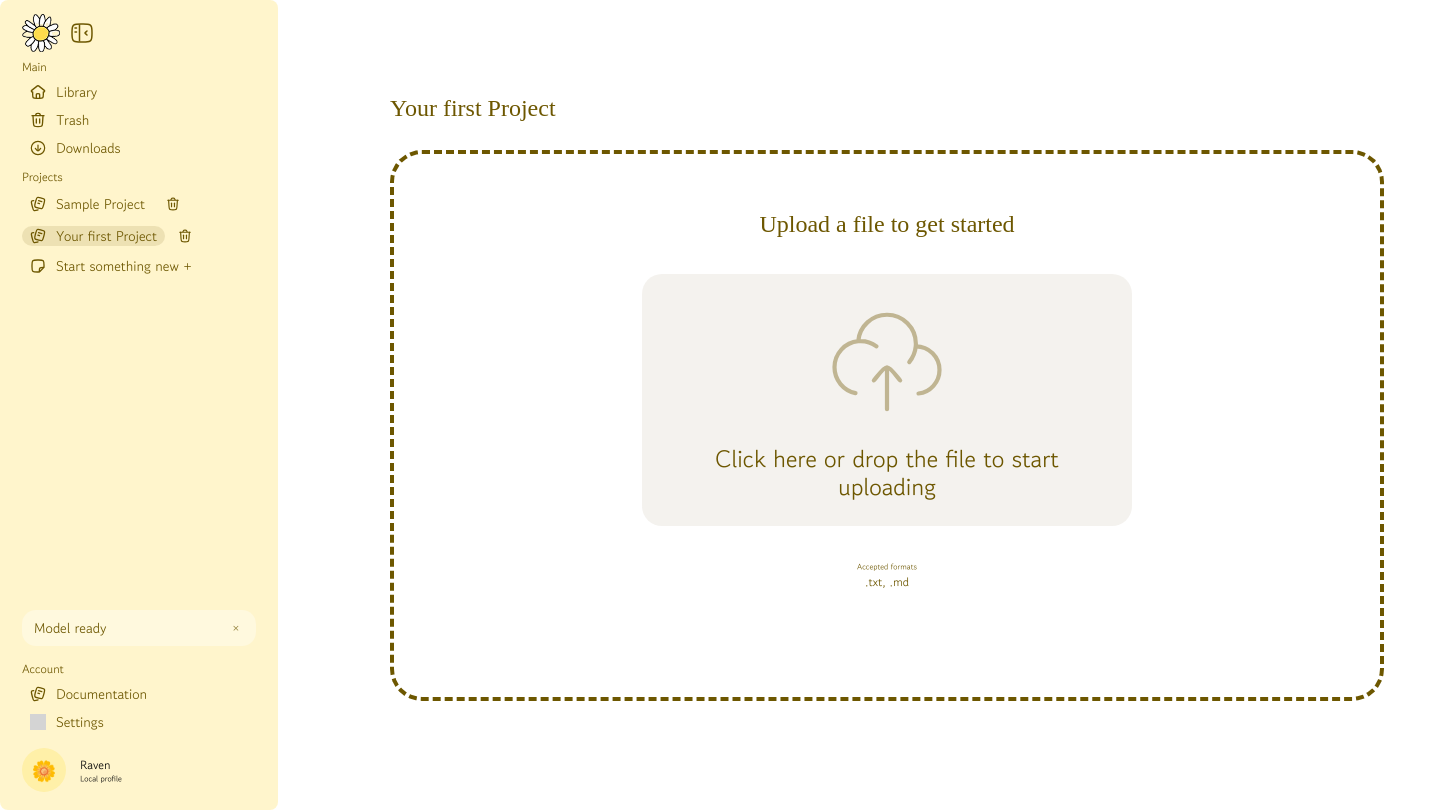
Scenario: Upload screen › deletes a project from the navbar and removes it from the list
This screenshot has width=1440, height=810.
Expected: the heading "Your first Project" is shown, [390, 94, 556, 122]
Click the button named "Delete project Sample Project" at (173, 204), box [161, 192, 185, 216]
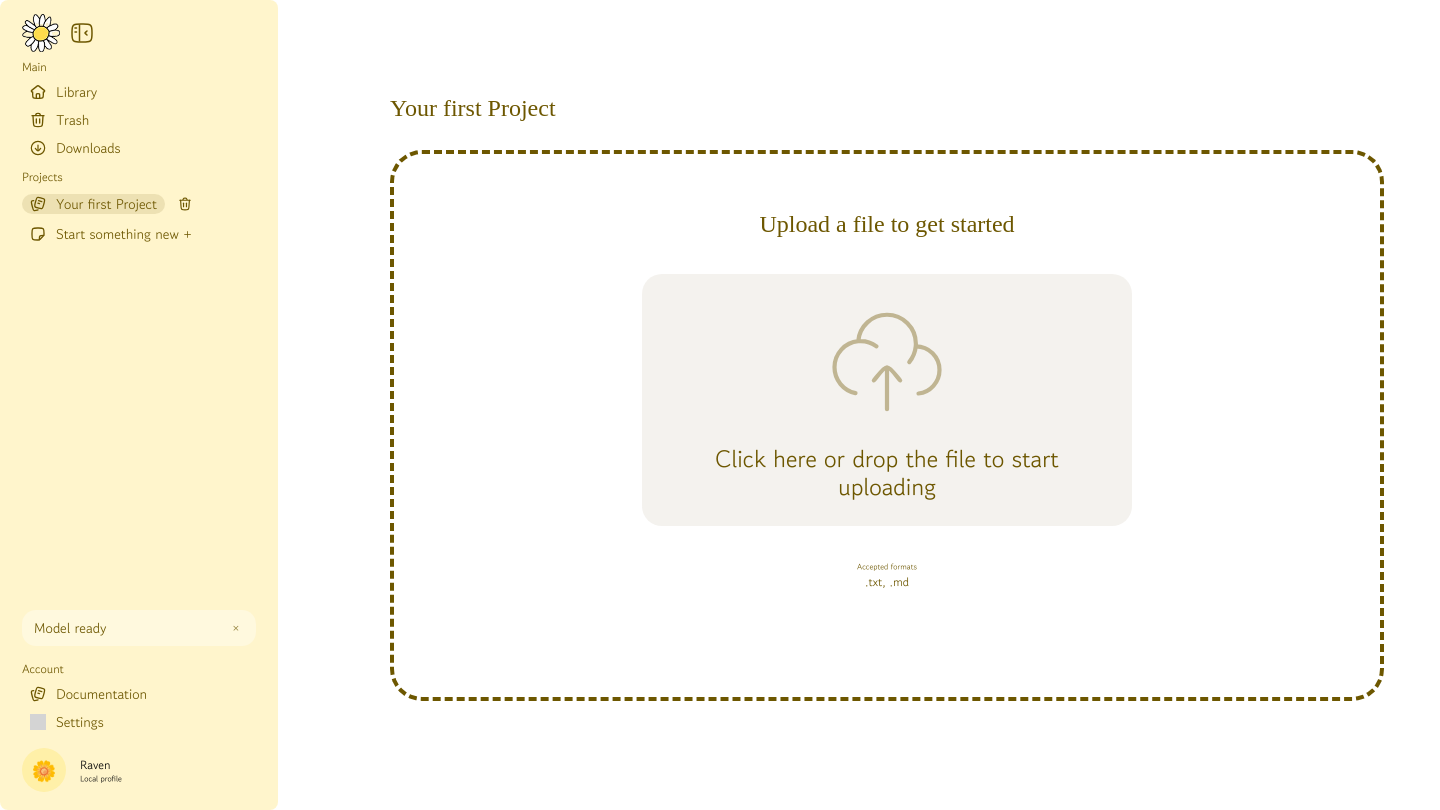
Result: the link "Sample Project" is gone
